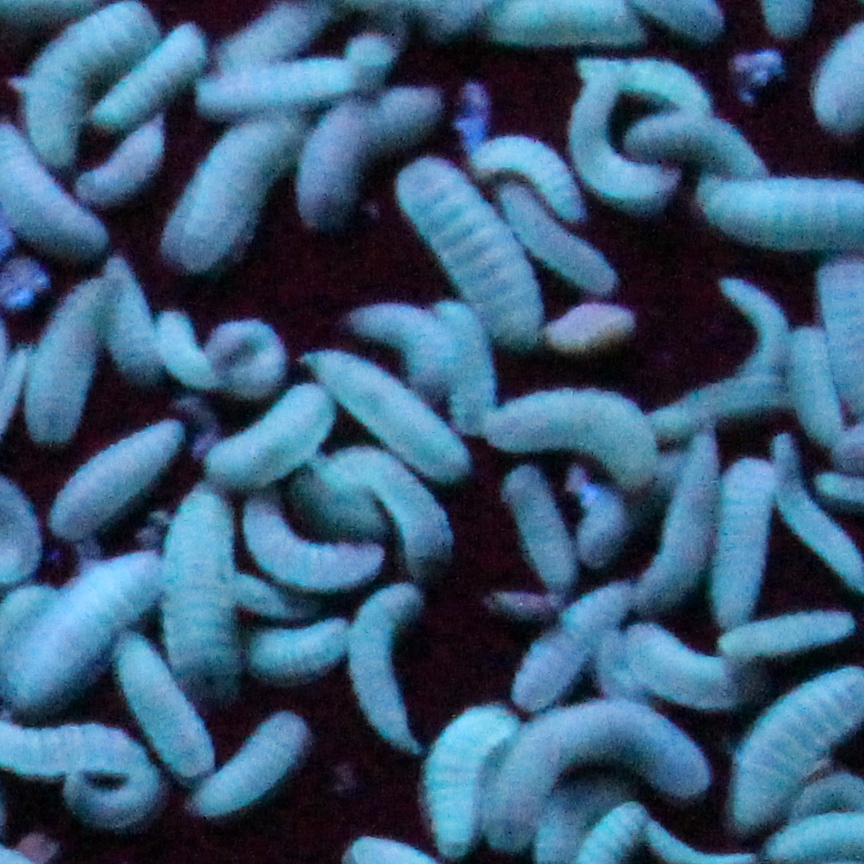larve: (396, 160, 547, 342), (9, 549, 174, 698), (156, 466, 253, 698), (302, 342, 462, 476), (169, 116, 303, 267), (283, 87, 431, 222), (478, 382, 658, 484), (491, 695, 616, 840), (547, 76, 682, 209), (105, 629, 220, 780), (318, 444, 456, 569), (487, 180, 627, 300), (51, 415, 180, 536), (25, 276, 122, 435), (514, 576, 631, 702), (636, 429, 714, 611), (191, 711, 322, 809), (211, 380, 333, 482), (351, 575, 420, 751), (243, 495, 371, 589), (573, 700, 702, 791), (83, 255, 165, 386), (625, 624, 751, 709), (467, 122, 580, 215), (93, 26, 202, 120), (625, 111, 769, 182), (431, 711, 509, 842), (574, 44, 716, 113), (427, 300, 503, 426), (711, 458, 771, 615), (716, 267, 794, 384), (498, 466, 574, 586), (191, 56, 363, 109), (349, 304, 451, 391), (705, 609, 864, 664), (784, 324, 854, 447), (640, 375, 787, 431), (194, 311, 289, 396), (236, 615, 351, 684), (145, 302, 218, 396), (80, 124, 167, 198), (67, 767, 165, 822)
